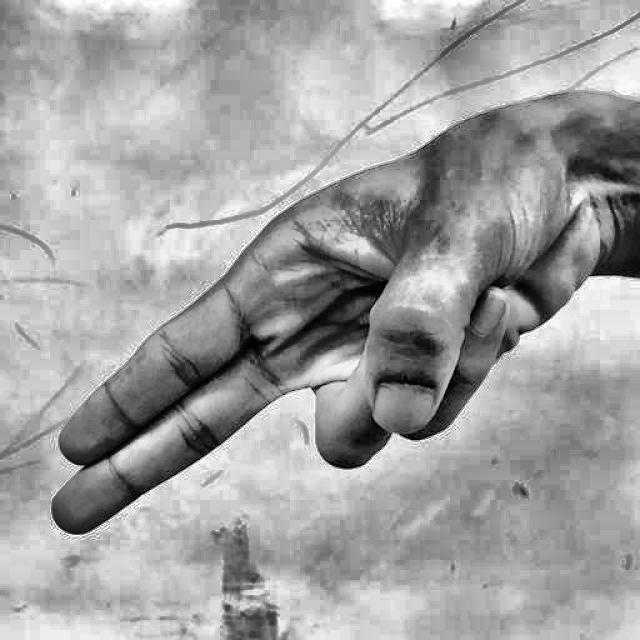Ha: (35, 96, 611, 592)
